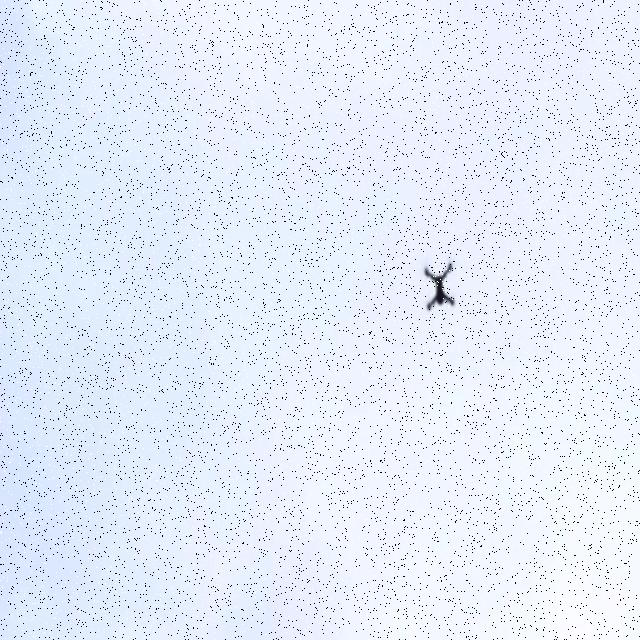UAV: (425, 262, 455, 315)
